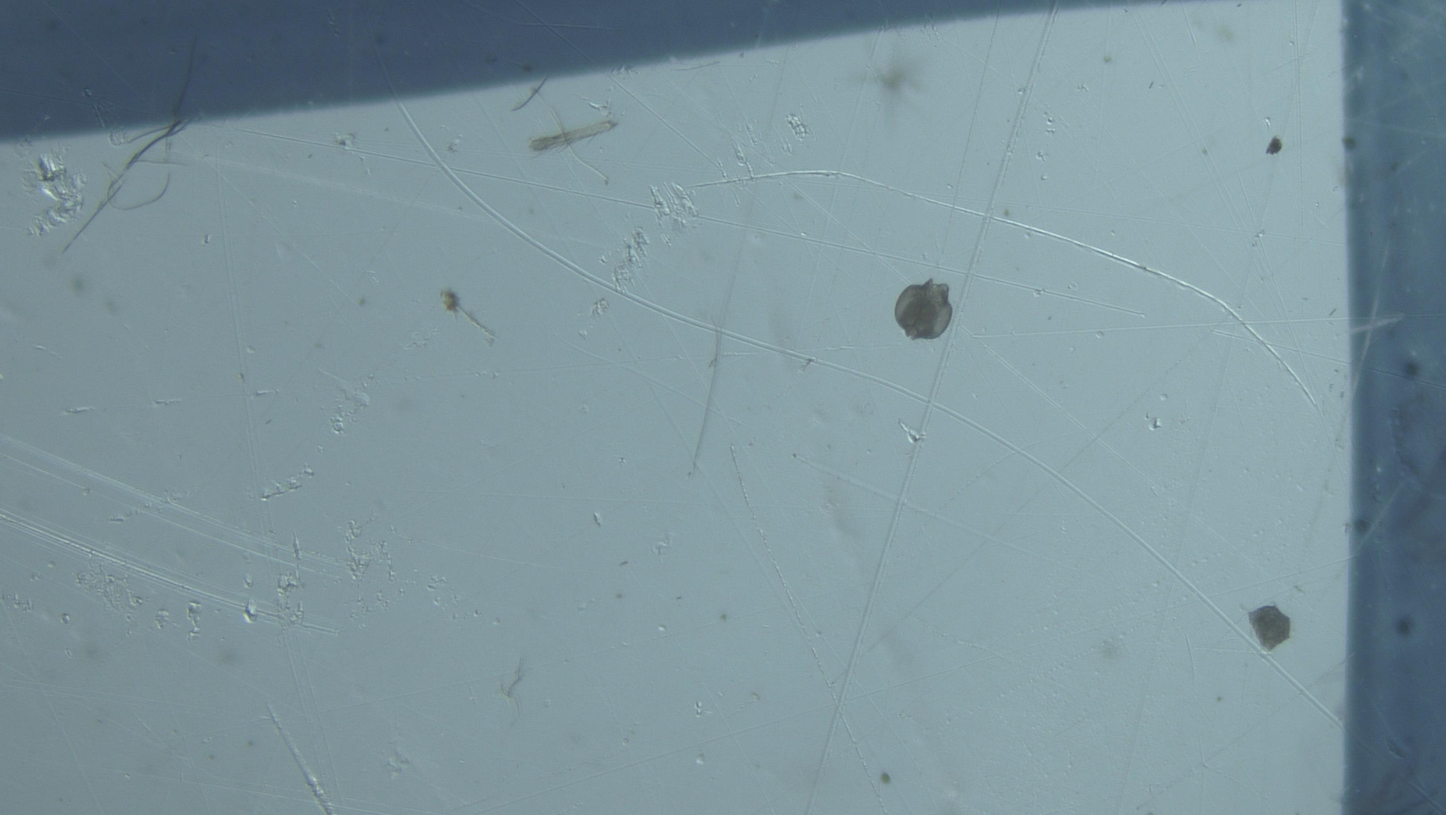live: (894, 279, 953, 340)
